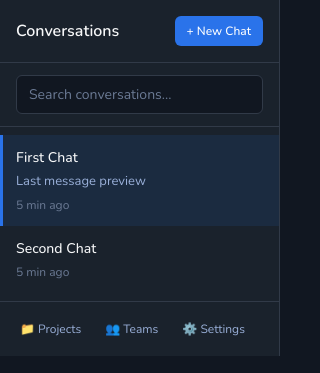
Test: ChatSidebar › search functionality › filters conversations by title
The width and height of the screenshot is (320, 373).
Type "First" into the field with test id "conversation-search" at (140, 94), box left=16, top=75, right=263, bottom=114
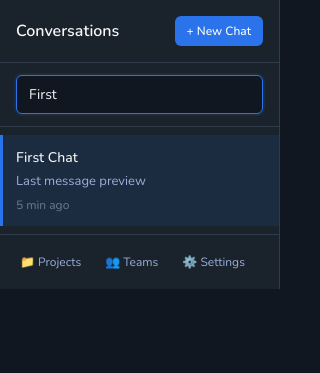
Expected: the heading "First Chat" is shown, left=16, top=148, right=78, bottom=167
Expected: the heading "Second Chat" is gone
